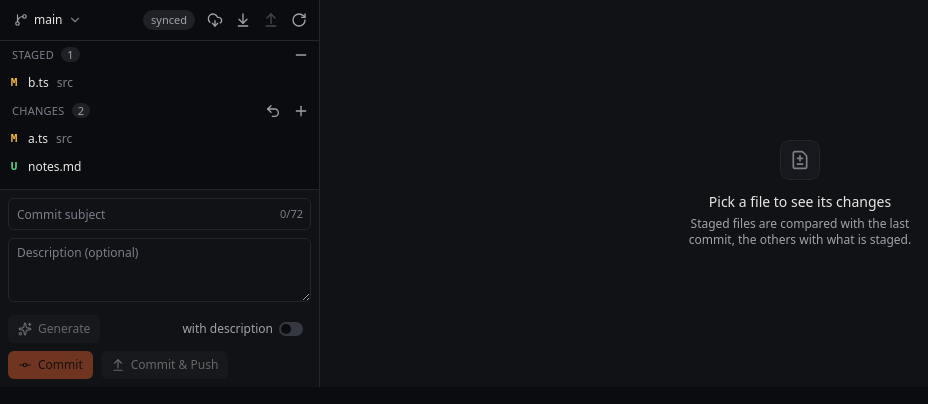
it: the file lists › stages everything and unstages everything
Step 1. Click the button named "Stage all" → (301, 111), box [287,97,315,125]
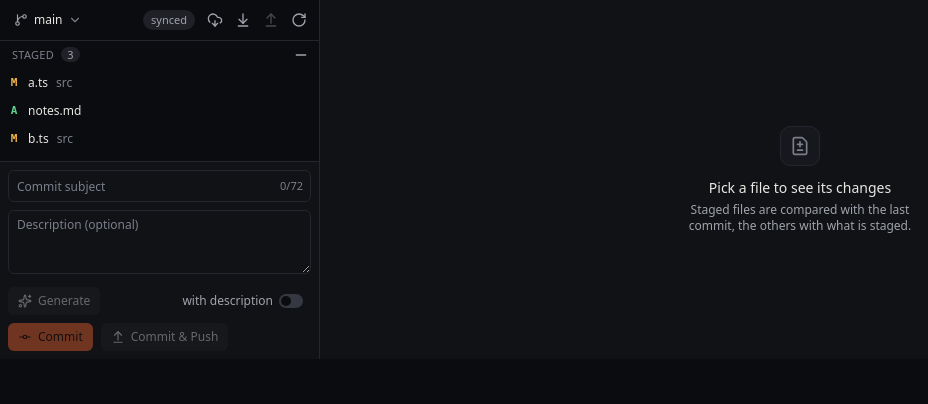
Check: the button named "Changes" is gone
Step 2. Click the button named "Unstage all" → (301, 55), box [287,41,315,69]
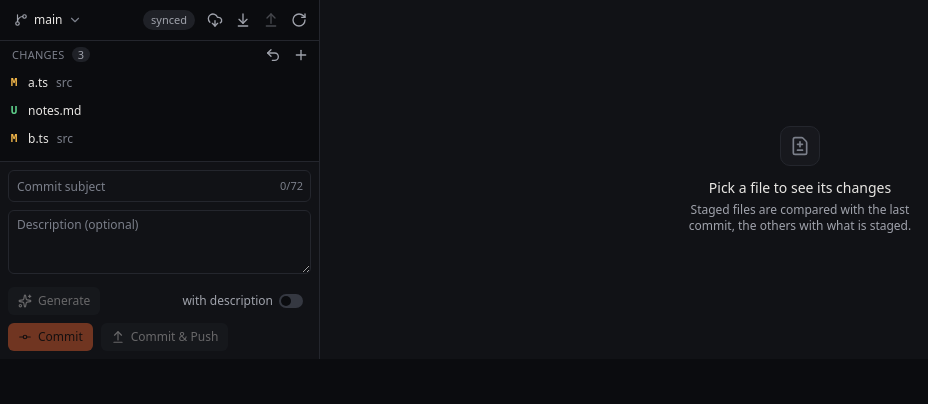
Check: the element named "Staged" is gone
